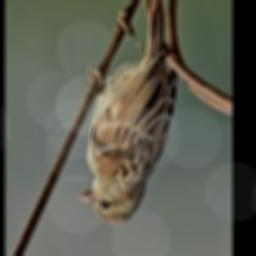Sparrow: (77, 0, 177, 224)
